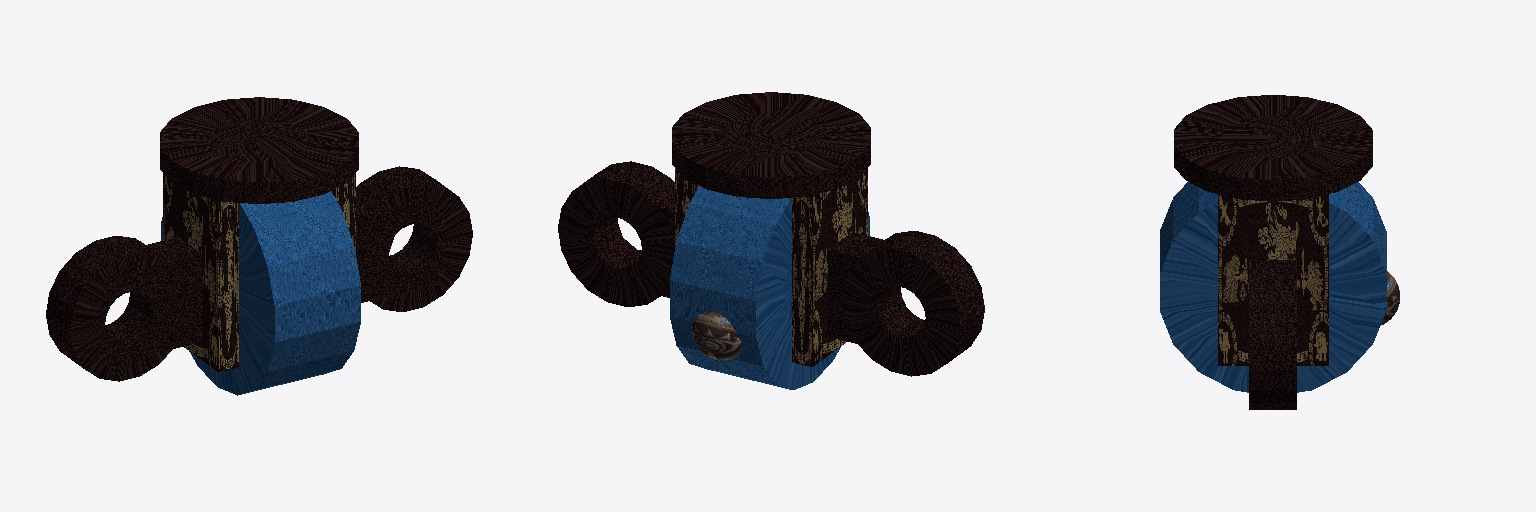
3 renders of one model, left to right at view 1: azimuth 30°, elevation 25°; view 2: azimuth 150°, elevation 25°; view 3: azimuth 270°, elevation 25°, orthographic.
Visible parts, largest first — view 1: Cylinder001, Cylinder002, Cylinder005, Cylinder004, Box004, Box003; view 2: Cylinder001, Cylinder002, Cylinder005, Cylinder004, Box004, GeoSphere002, Box003; view 3: Cylinder001, Cylinder005, Box003, Cylinder004.
Part boxes in pixels (x1,y1,x2,y2): Cylinder001: (161,191,360,395); Cylinder002: (46,236,202,381); Cylinder005: (160,97,358,203); Cylinder004: (356,166,472,311); Box004: (163,173,238,371); Box003: (332,173,355,251); Cylinder001: (670,186,869,389); Cylinder002: (828,231,984,376); Cylinder005: (672,92,870,198); Cylinder004: (558,161,674,306); Box004: (792,168,867,366); GeoSphere002: (692,312,741,360); Box003: (675,168,698,246); Cylinder001: (1160,182,1386,392); Cylinder005: (1174,95,1372,201); Box003: (1218,194,1328,365); Cylinder004: (1249,260,1296,409).
Size of the model in its own units: 9.67 by 5.44 by 5.
Materials: 4 (4 with a texture image).